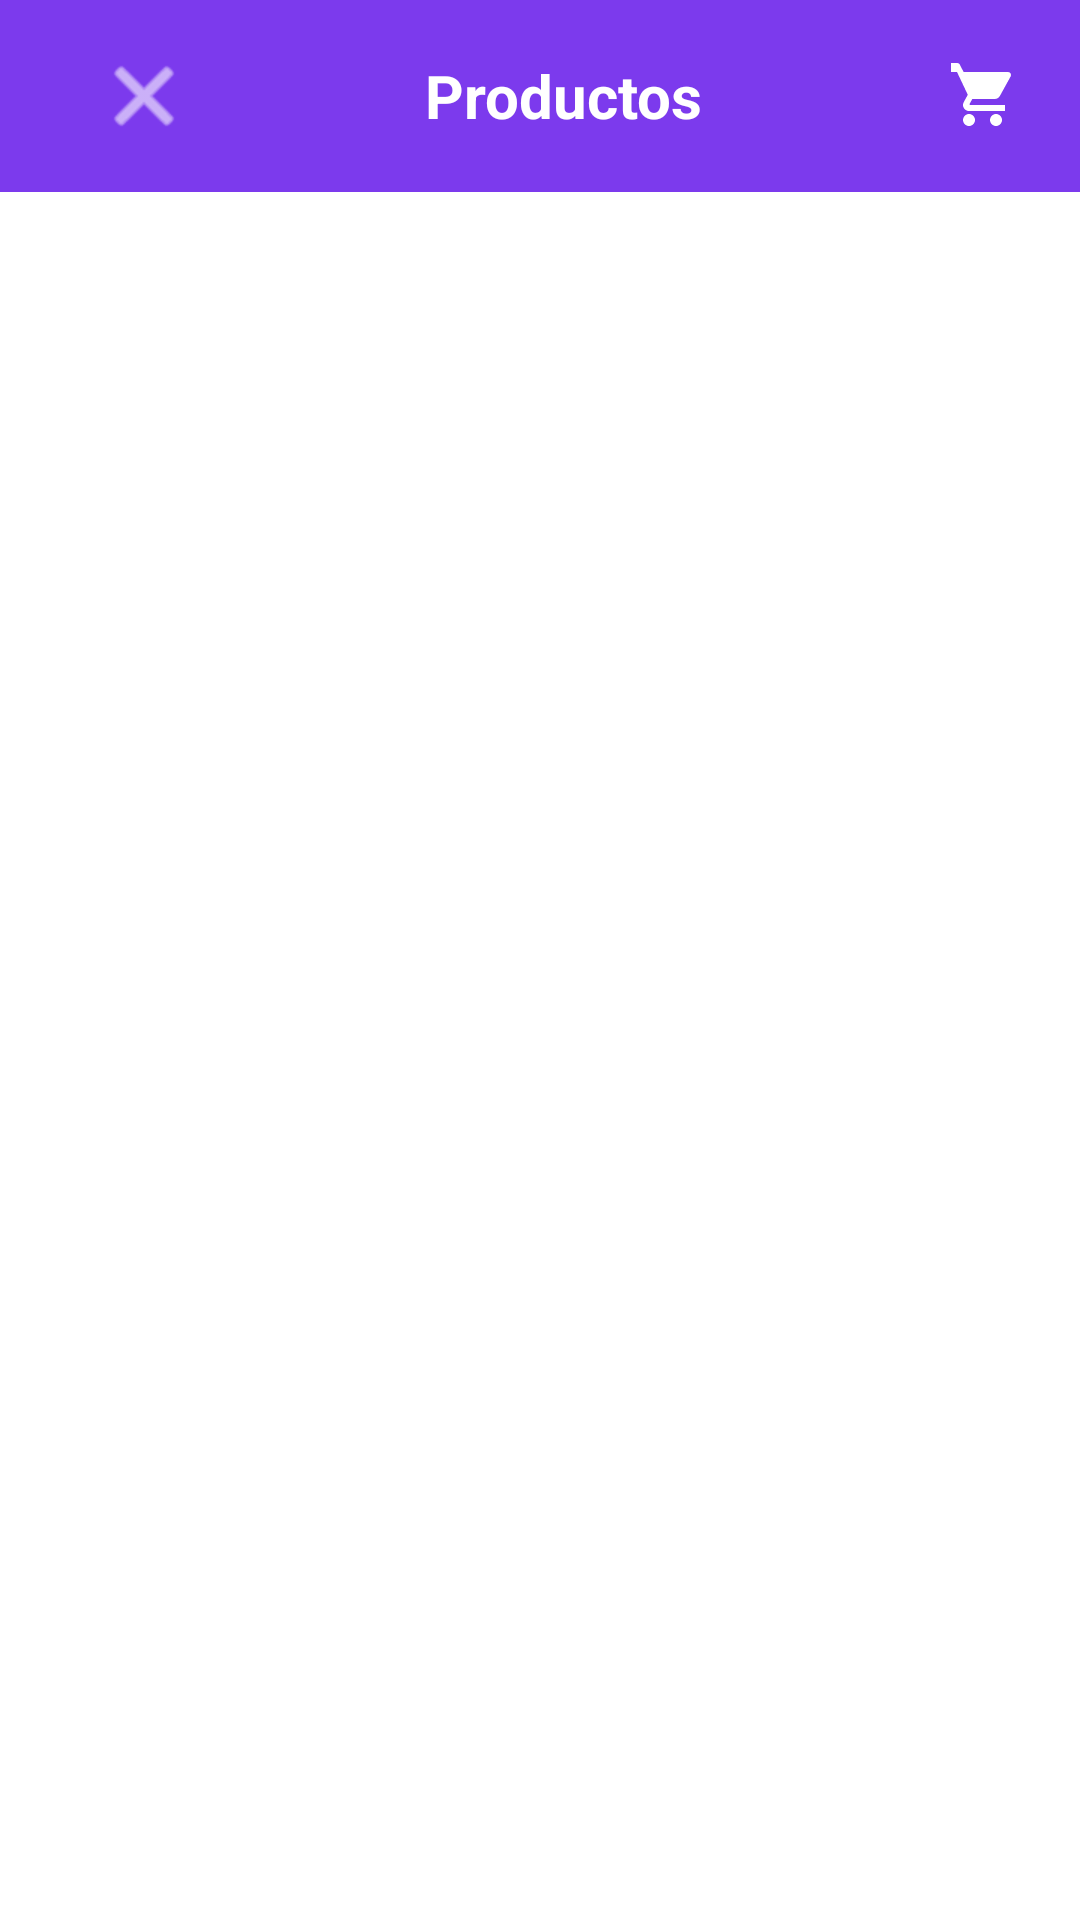

Named icons in this screenshot (1080w x 1920h) and their bounding boxes, {"left": x1, "top": y1, "right": x2, "bottom": y2}:
shopping cart: {"left": 951, "top": 63, "right": 1011, "bottom": 126}
